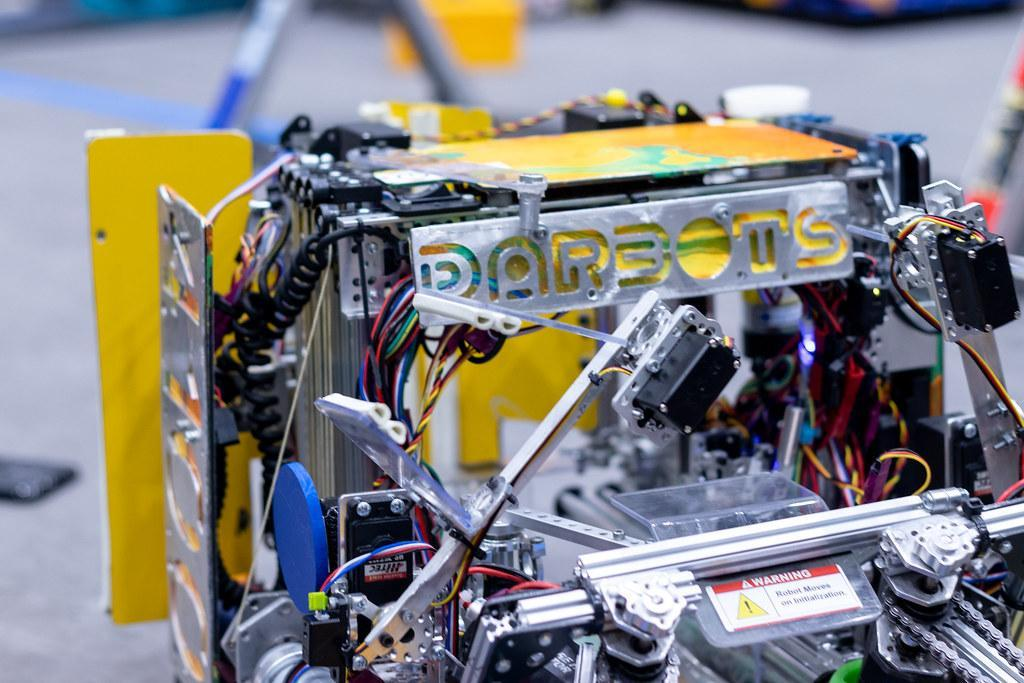robot: (83, 60, 1024, 683)
